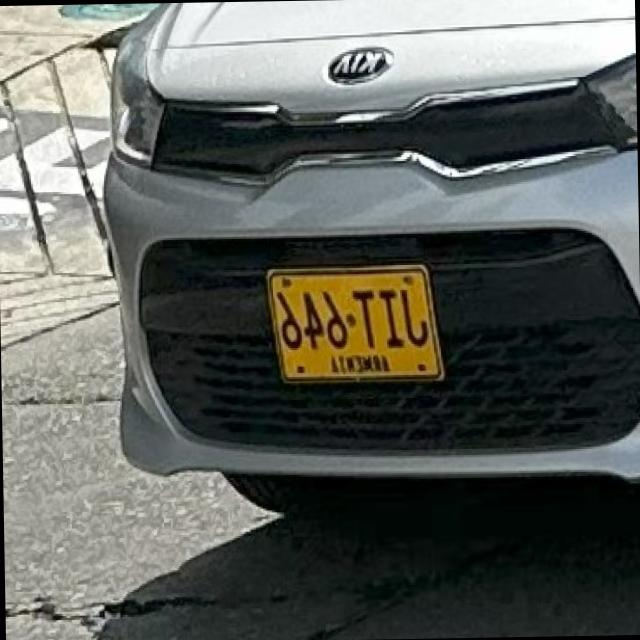number plate: (270, 262, 446, 377)
